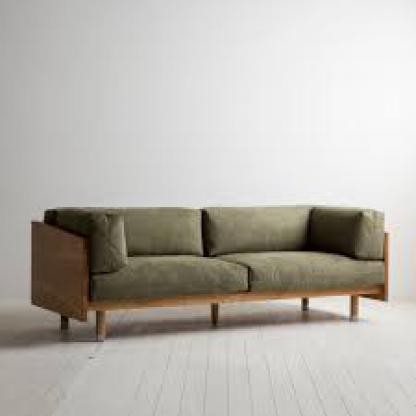sofa: (30, 202, 394, 326)
